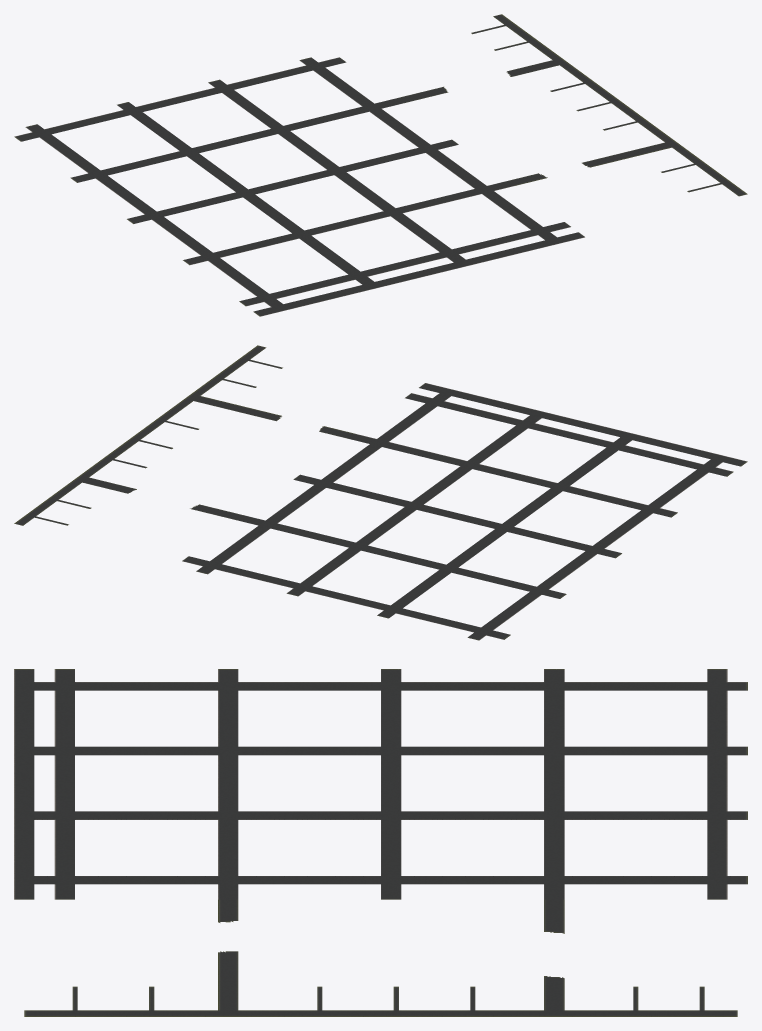
Rendered from asphalt_visual.dae.
The picture shows the model from 3 angles, top to bottom: view 1: azimuth 30°, elevation 25°; view 2: azimuth 150°, elevation 25°; view 3: azimuth 270°, elevation 25°; orthographic projection. The views are drawn at different scales.
Visible parts, largest first — view 1: Terrain; view 2: Terrain; view 3: Terrain.
Boxes of the visible parts, bbox=[...] form: Terrain: bbox=[14, 14, 747, 316]; Terrain: bbox=[14, 345, 747, 640]; Terrain: bbox=[14, 669, 747, 1016].
Size of the model in its own units: 808 by 720 by 0.093.
Materials: 1 (1 with a texture image).
